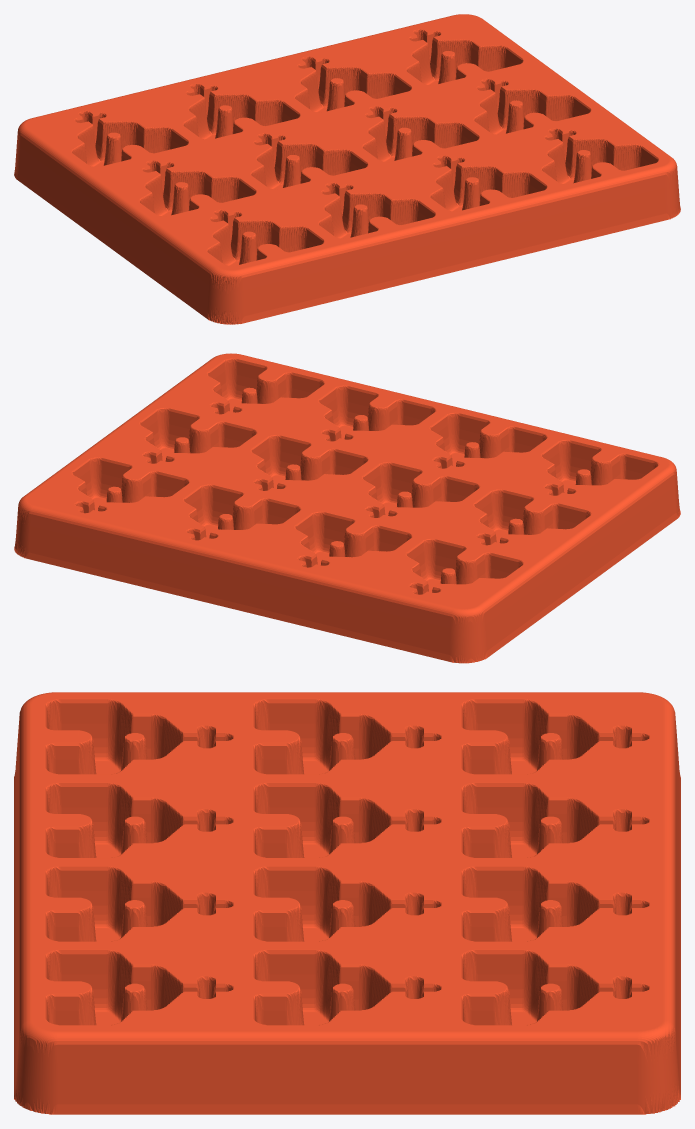
Rendered from mold.glb.
3 renders of one model, top to bottom at view 1: azimuth 30°, elevation 25°; view 2: azimuth 150°, elevation 25°; view 3: azimuth 270°, elevation 25°, orthographic. The views are drawn at different scales.
Parts seen in each view (by area): view 1: geometry_0; view 2: geometry_0; view 3: geometry_0.
Boxes of the visible parts, <box> form: geometry_0: <box>14,14,680,324</box>; geometry_0: <box>14,353,680,663</box>; geometry_0: <box>14,692,680,1114</box>.
Size of the model in its own units: 0.1738 by 0.0175 by 0.1389.
